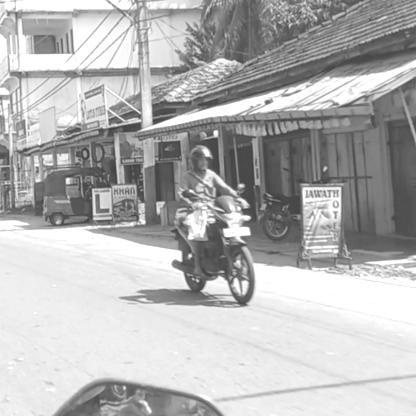motorcycle: (169, 195, 276, 316)
